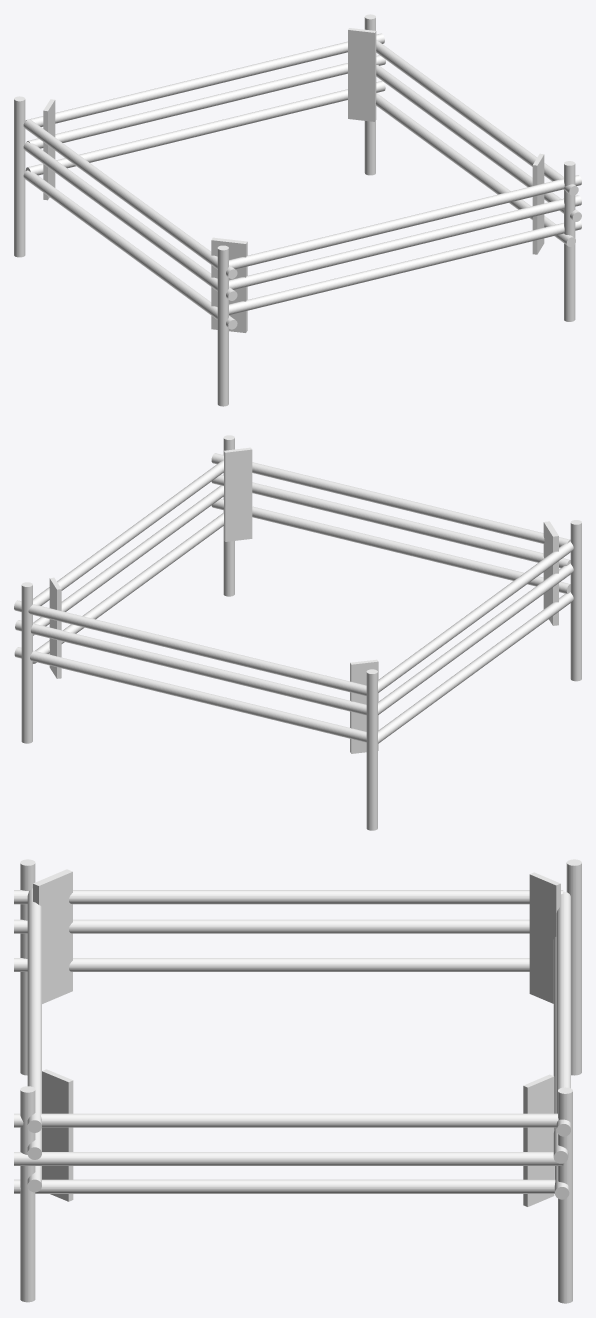
File: FieldSide.obj
3 renders of one model, top to bottom at view 1: azimuth 30°, elevation 25°; view 2: azimuth 150°, elevation 25°; view 3: azimuth 270°, elevation 25°, orthographic. The views are drawn at different scales.
Visible parts, largest first — view 1: Rope_2_Cylinder.005; view 2: Rope_2_Cylinder.005; view 3: Rope_2_Cylinder.005.
Part boxes in pixels (left/top/right/bottom): Rope_2_Cylinder.005: left=14, top=14, right=581, bottom=406; Rope_2_Cylinder.005: left=14, top=435, right=581, bottom=830; Rope_2_Cylinder.005: left=14, top=859, right=581, bottom=1303.
Size of the model in its own units: 12.58 by 5.2 by 12.69.
1 material, 1 textured.
